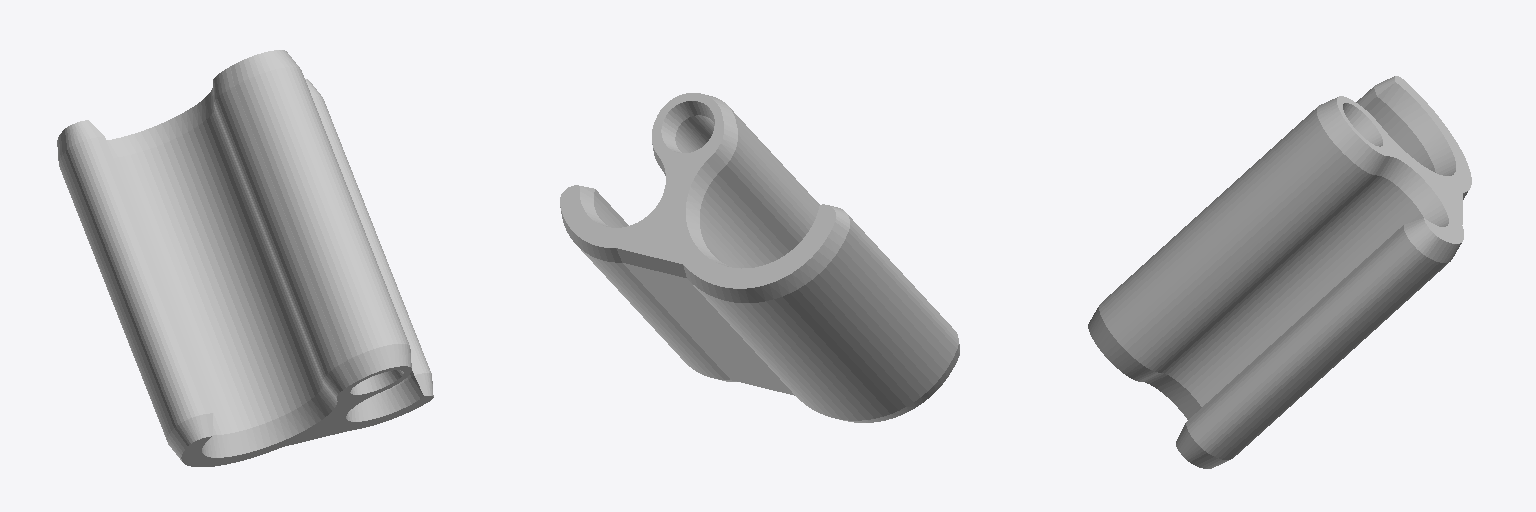
File: Clip.obj
The picture shows the model from 3 angles: view 1: azimuth 30°, elevation 25°; view 2: azimuth 150°, elevation 25°; view 3: azimuth 270°, elevation 25°; orthographic projection.
Parts seen in each view (by area): view 1: Clip+Wire; view 2: Clip+Wire; view 3: Clip+Wire.
Boxes of the visible parts, <box> form: Clip+Wire: <box>57,50,433,466</box>; Clip+Wire: <box>560,93,959,422</box>; Clip+Wire: <box>1088,76,1471,468</box>.
Size of the model in its own units: 14.25 by 17.46 by 17.46.